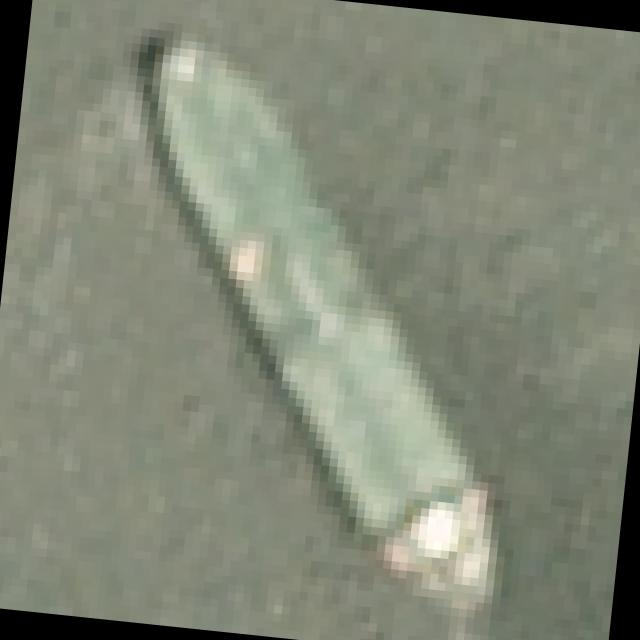ship: (57, 6, 602, 640)
